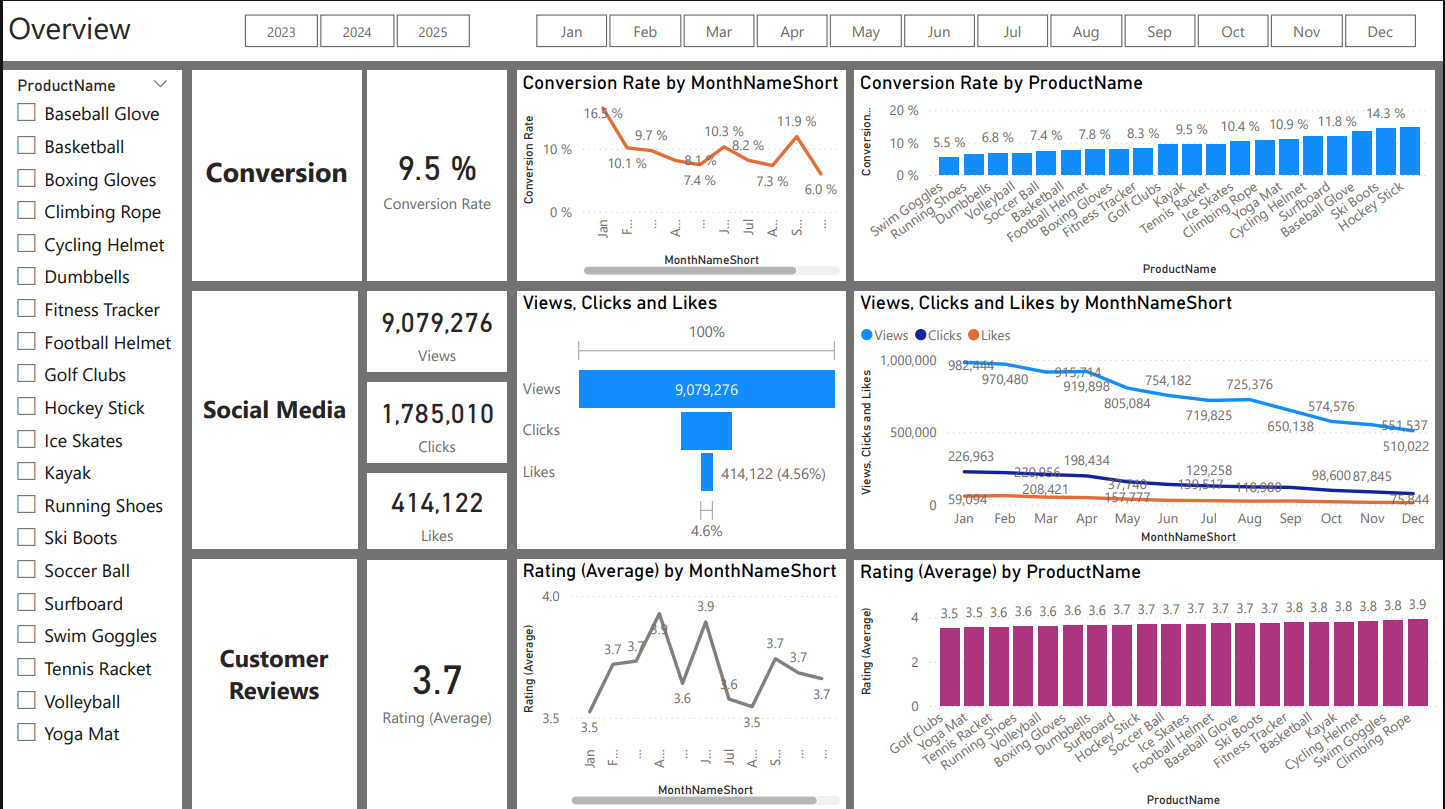

What the dashboard file says about the page in this screenshot:
{"tool":"powerbi","page":{"name":"Overview","canvas":[1280,720],"ordinal":0},"visuals":[{"type":"textbox","box":[0,0,1280,52.6],"z":0},{"type":"slicer","fields":{"Values":["dim_products.ProductName"]},"box":[0,61.6,159.5,658.5],"z":1000},{"type":"card","fields":{"Values":["_Calculations.Conversion Rate"]},"box":[324.1,61.9,123.9,186.8],"z":2000},{"type":"card","fields":{"Values":["_Calculations.Rating (Average)"]},"box":[324.1,496.5,123.9,224],"z":3000},{"type":"lineChart","fields":{"Y":["_Calculations.Conversion Rate"],"Category":["Calendar.MonthNameShort"]},"box":[457.1,61.9,292.3,186.7],"z":4000},{"type":"columnChart","fields":{"Category":["dim_products.ProductName"],"Y":["_Calculations.Conversion Rate"]},"box":[756.7,61.9,516.3,186.7],"z":5000},{"type":"slicer","fields":{"Values":["Calendar.Year"]},"box":[189.4,4.6,249.5,43.7],"z":6000},{"type":"slicer","fields":{"Values":["Calendar.MonthNameShort"]},"box":[448,4.6,832.3,43.7],"z":7000},{"type":"lineChart","fields":{"Y":["_Calculations.Views","_Calculations.Clicks","_Calculations.Likes"],"Category":["Calendar.MonthNameShort"]},"box":[756.6,258.1,516.1,229.2],"z":8000},{"type":"lineChart","fields":{"Category":["Calendar.MonthNameShort"],"Y":["_Calculations.Rating (Average)"]},"box":[457.1,496.3,292.3,224],"z":9000},{"type":"columnChart","fields":{"Category":["dim_products.ProductName"],"Y":["_Calculations.Rating (Average)"]},"box":[756.6,496.5,523.4,224],"z":10000},{"type":"funnel","fields":{"Y":["_Calculations.Views","_Calculations.Clicks","_Calculations.Likes"]},"box":[457.3,258.1,292.1,229.2],"z":11000},{"type":"card","fields":{"Values":["_Calculations.Views"]},"box":[324.2,257.7,123.8,71.9],"z":12000},{"type":"textbox","box":[168.5,61.9,150.3,186.7],"z":13000},{"type":"textbox","box":[168.5,257.7,146.6,229.5],"z":14000},{"type":"textbox","box":[168.5,496.3,145.7,224],"z":15000},{"type":"card","fields":{"Values":["_Calculations.Clicks"]},"box":[324.2,338.8,123.8,71.9],"z":16000},{"type":"card","fields":{"Values":["_Calculations.Likes"]},"box":[324.2,419.8,123.8,67.4],"z":17000}]}

Visuals, with their boxes in screenshot pixels (x1, y1, x2, y2), scaled from the page's 1280x720 canvas onto the 1445x809 screenshot:
textbox: [x1=0, y1=0, x2=1444, y2=59]
slicer - dim_products.ProductName: [x1=0, y1=69, x2=180, y2=808]
card - _Calculations.Conversion Rate: [x1=366, y1=70, x2=506, y2=279]
card - _Calculations.Rating (Average): [x1=366, y1=558, x2=506, y2=808]
lineChart - _Calculations.Conversion Rate x Calendar.MonthNameShort: [x1=516, y1=70, x2=846, y2=279]
columnChart - dim_products.ProductName x _Calculations.Conversion Rate: [x1=854, y1=70, x2=1437, y2=279]
slicer - Calendar.Year: [x1=214, y1=5, x2=495, y2=54]
slicer - Calendar.MonthNameShort: [x1=506, y1=5, x2=1444, y2=54]
lineChart - _Calculations.Views x _Calculations.Clicks: [x1=854, y1=290, x2=1437, y2=548]
lineChart - Calendar.MonthNameShort x _Calculations.Rating (Average): [x1=516, y1=558, x2=846, y2=808]
columnChart - dim_products.ProductName x _Calculations.Rating (Average): [x1=854, y1=558, x2=1444, y2=808]
funnel - _Calculations.Views x _Calculations.Clicks: [x1=516, y1=290, x2=846, y2=548]
card - _Calculations.Views: [x1=366, y1=290, x2=506, y2=370]
textbox: [x1=190, y1=70, x2=360, y2=279]
textbox: [x1=190, y1=290, x2=356, y2=547]
textbox: [x1=190, y1=558, x2=355, y2=808]
card - _Calculations.Clicks: [x1=366, y1=381, x2=506, y2=461]
card - _Calculations.Likes: [x1=366, y1=472, x2=506, y2=547]
